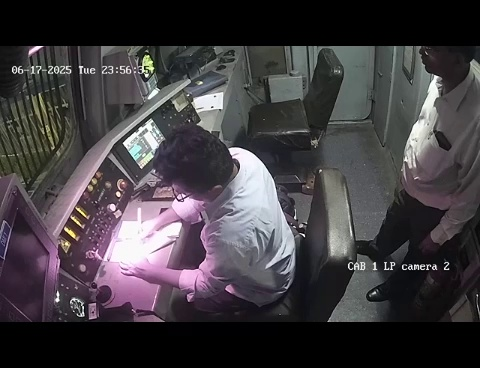horn_inactive: (80, 273, 129, 316)
